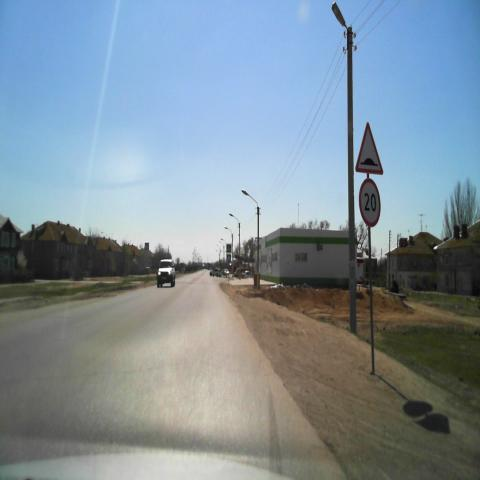1_17: (353, 123, 383, 175)
